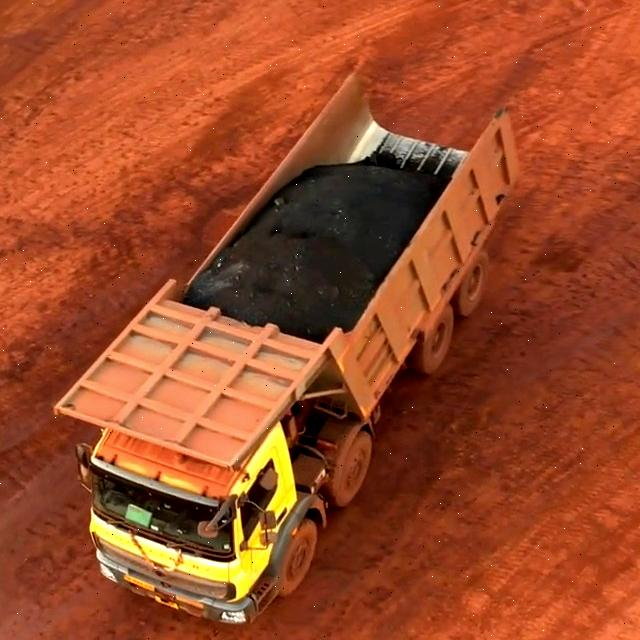Dumper truck: (96, 323, 320, 614)
